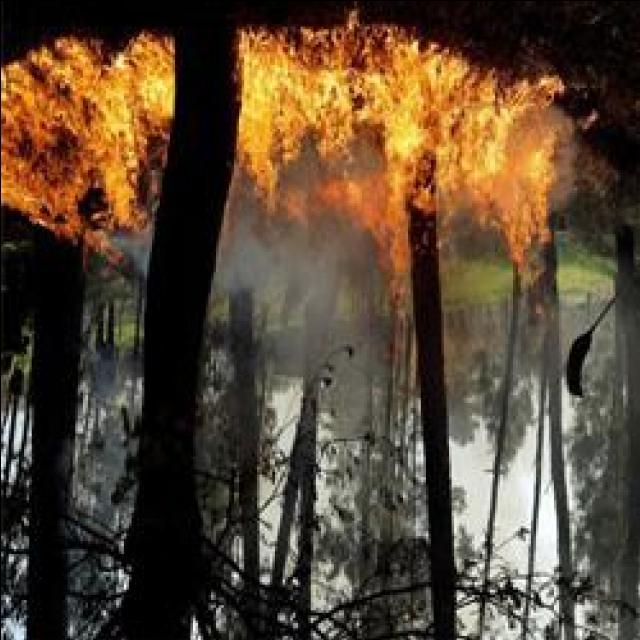fire: (0, 38, 174, 215), (228, 46, 326, 162), (451, 98, 526, 190), (371, 61, 442, 152)
smoke: (272, 242, 344, 356), (226, 225, 288, 290)
